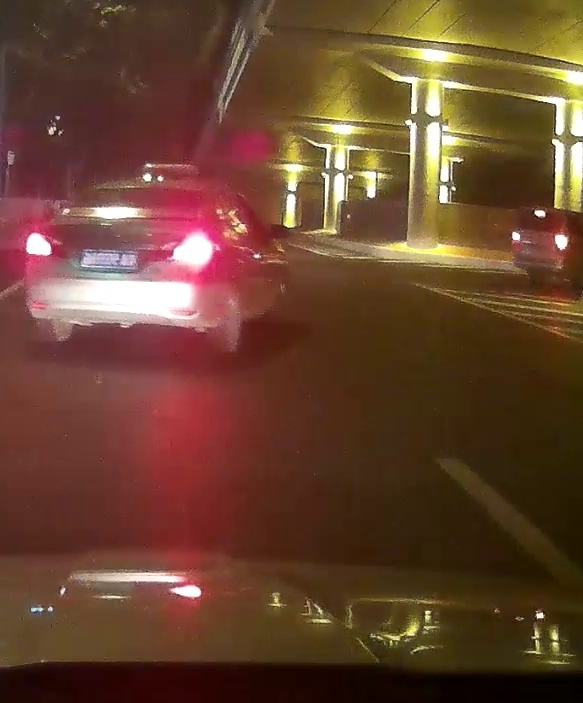L_light: (26, 231, 65, 257), (511, 230, 521, 251)
R_light: (154, 232, 220, 267), (555, 234, 569, 254)
T_light: (127, 188, 154, 195), (533, 209, 547, 219)
night-brake: (510, 205, 572, 285)
night-right: (24, 176, 230, 351)
